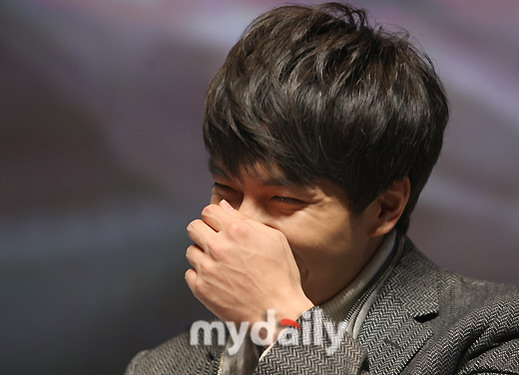face: (204, 116, 346, 324)
